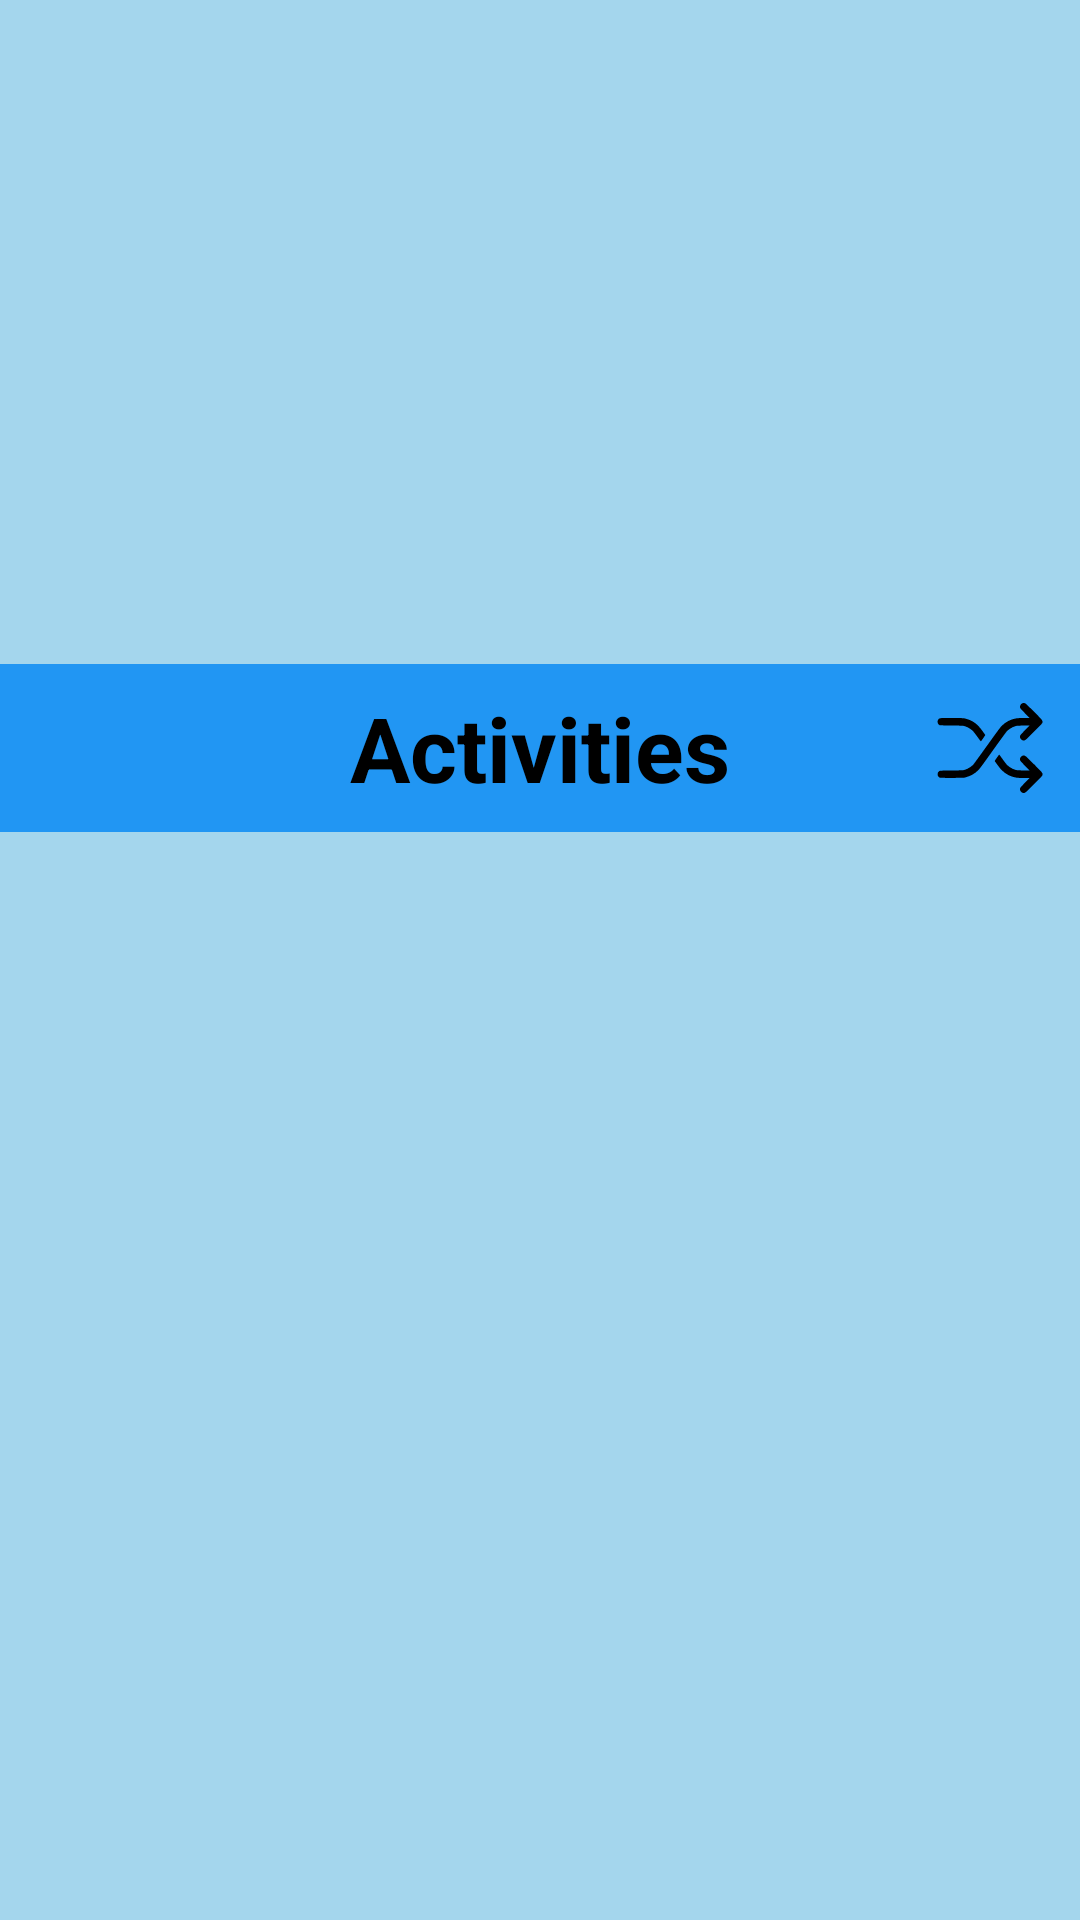

Named icons in this screenshot (1080×1920) and their bounding boxes, {"x1": x1, "y1": y1, "x2": x2, "y2": y2}:
random: {"x1": 937, "y1": 703, "x2": 1043, "y2": 793}
